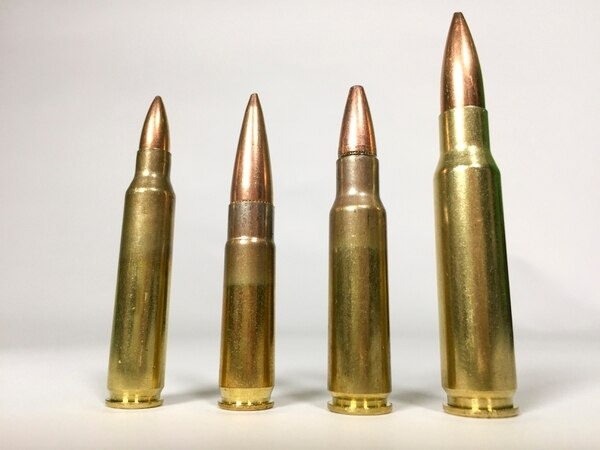bullet: (438, 3, 527, 430), (324, 84, 401, 418), (103, 87, 176, 411), (217, 90, 282, 413)
